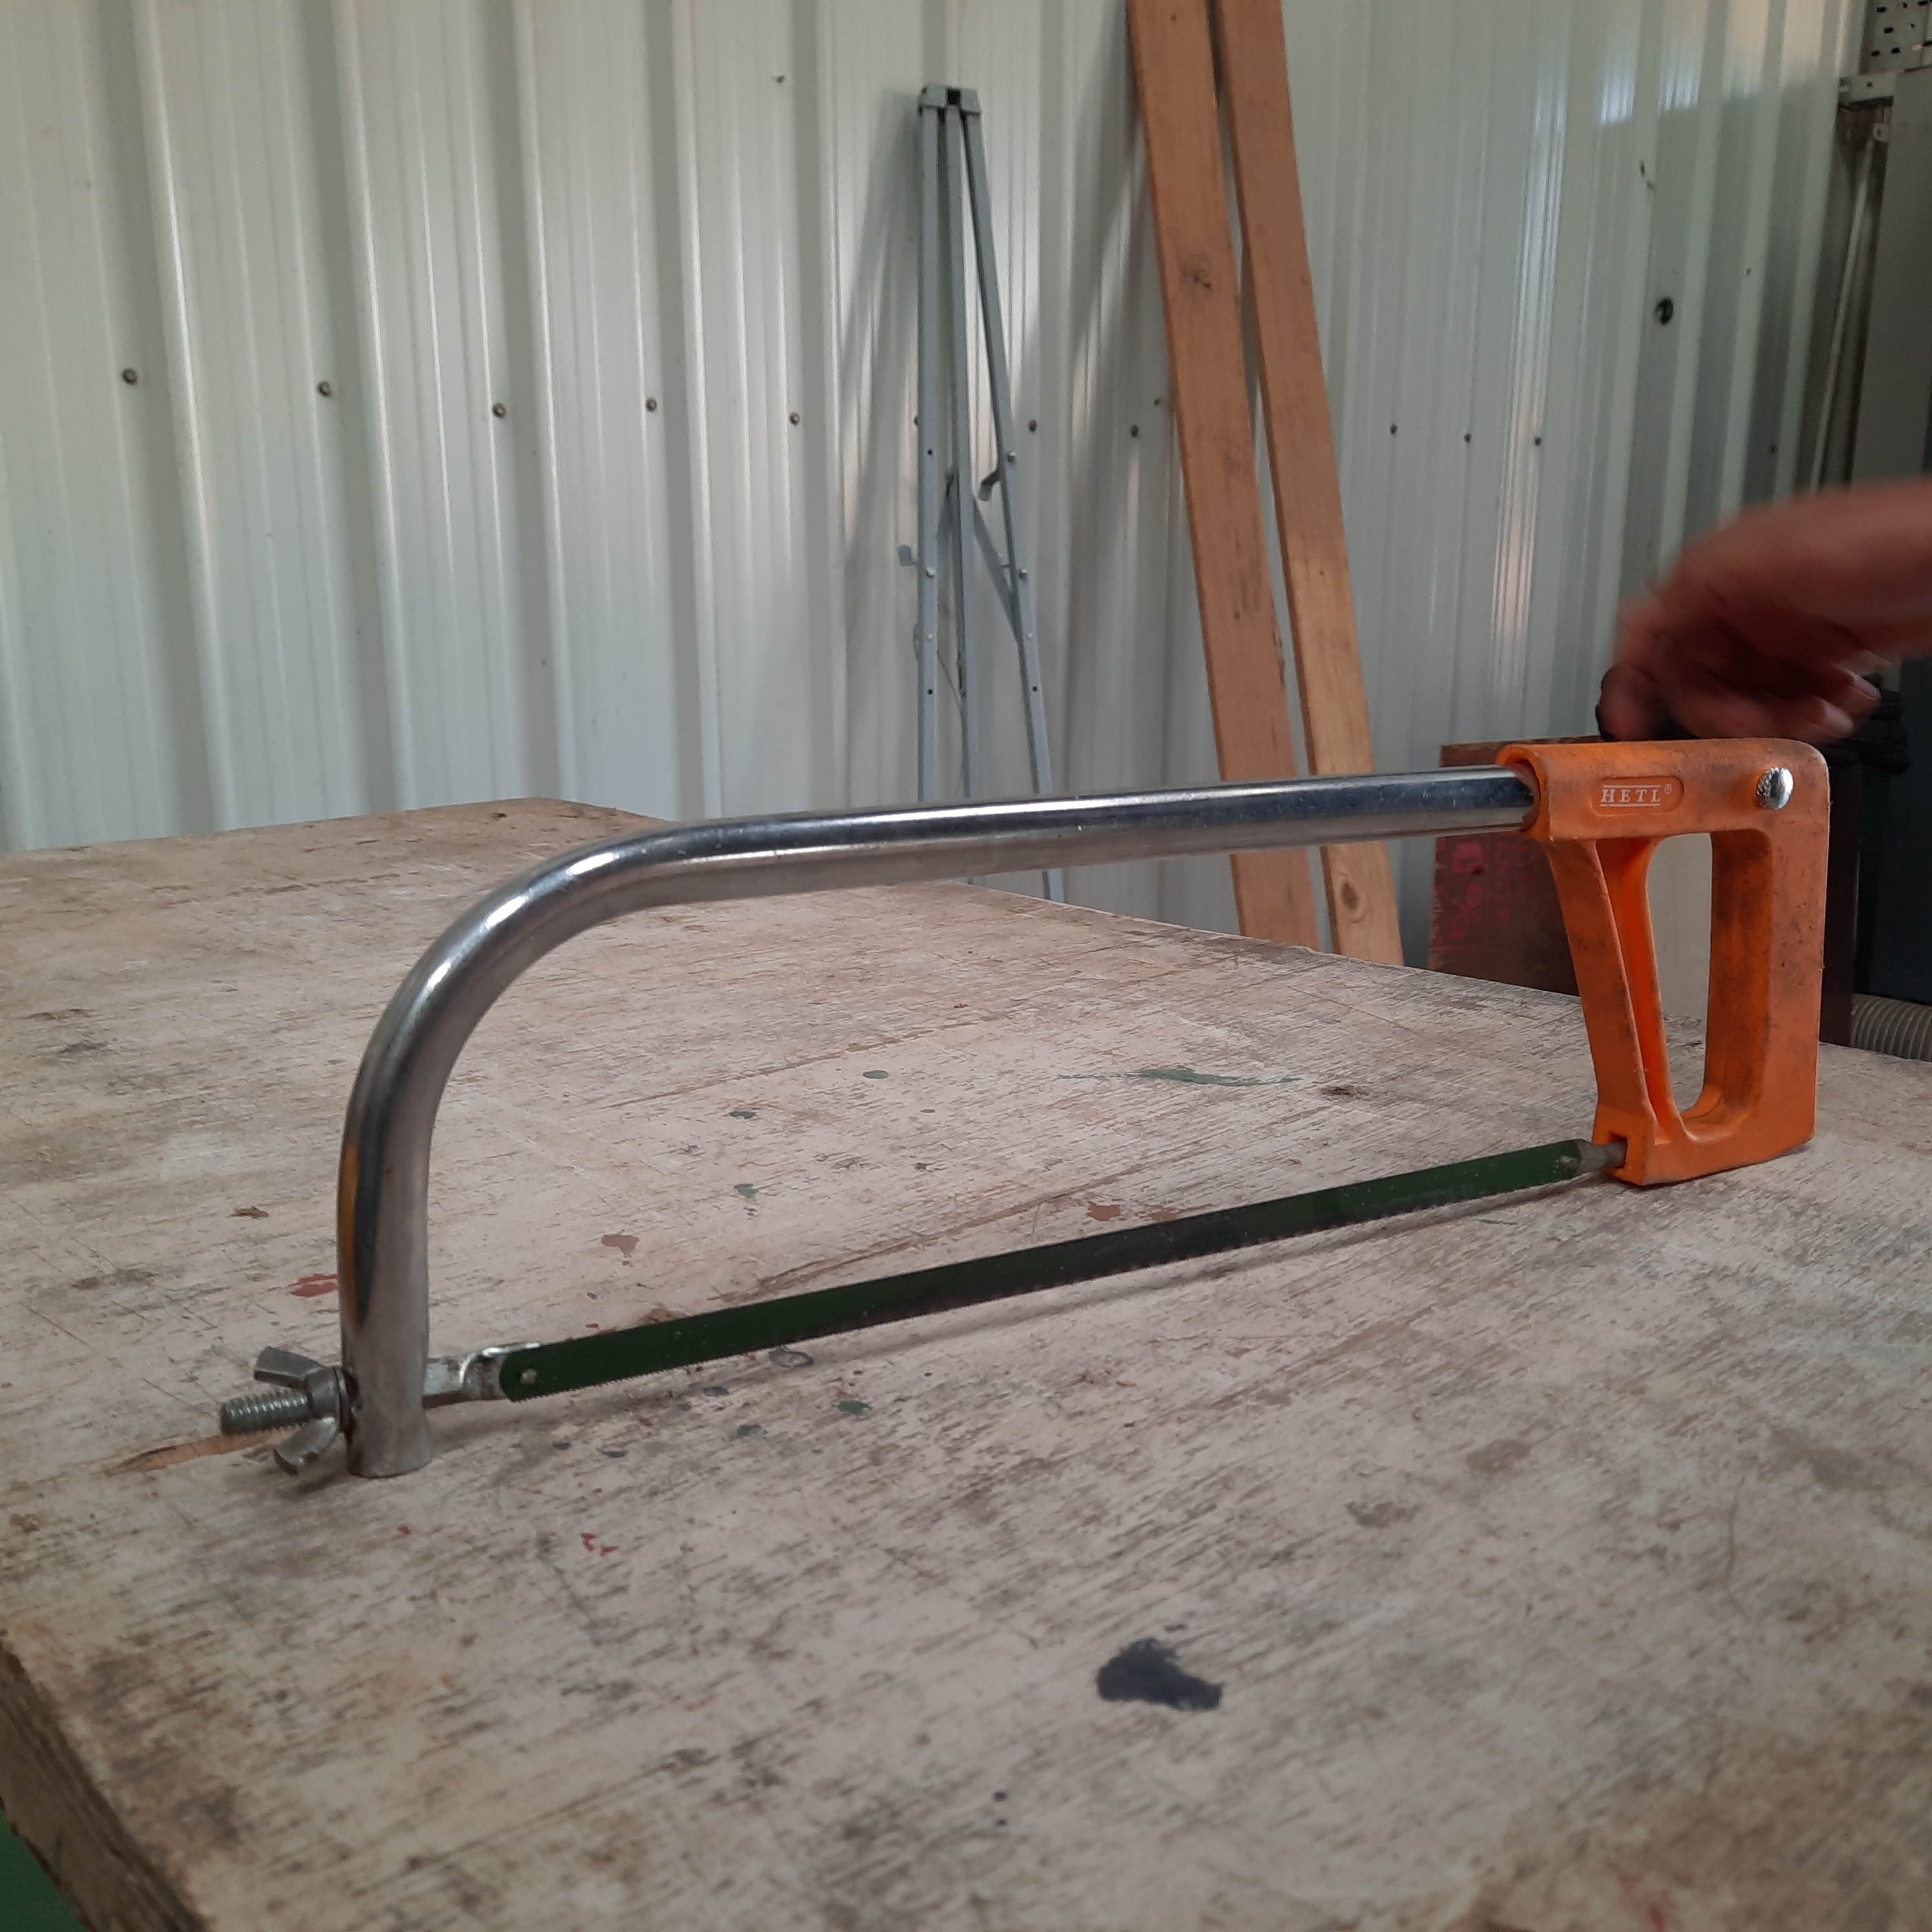Hexaframe: (306, 741, 1870, 1461)
